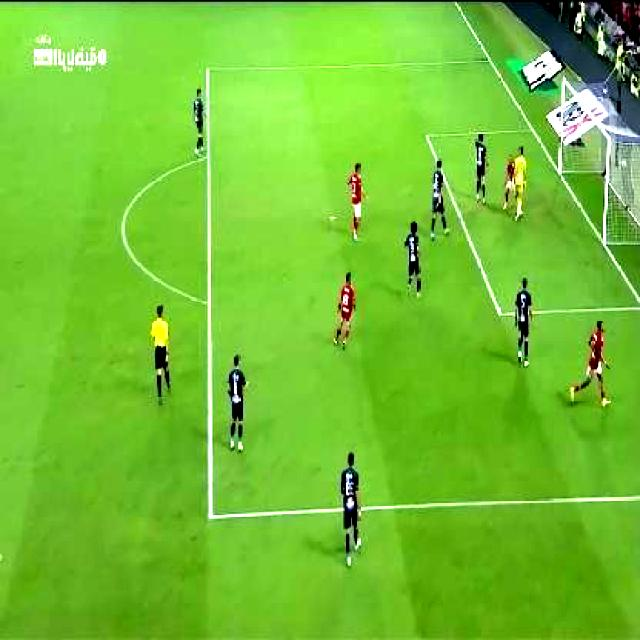bigarea_bottom_inner: (205, 498, 223, 531)
bigarea_top_inner: (203, 60, 215, 77)
bigarea_top_outter: (486, 52, 496, 65)
bottom_arc_area_intersection: (204, 294, 216, 315)
smallarea_bottom_inner: (496, 300, 510, 325)
smallarea_top_inner: (421, 126, 434, 143)
smallarea_top_outter: (529, 118, 543, 137)
top_arc_area_intersection: (206, 146, 214, 162)
